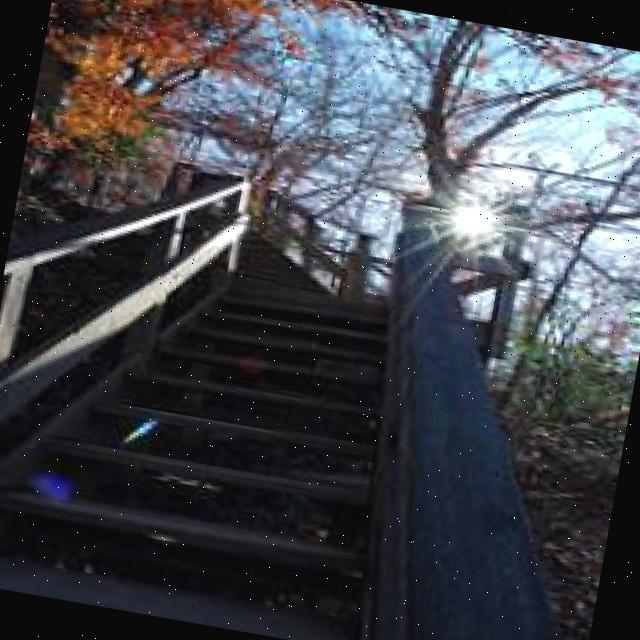stairs: (0, 174, 482, 640)
